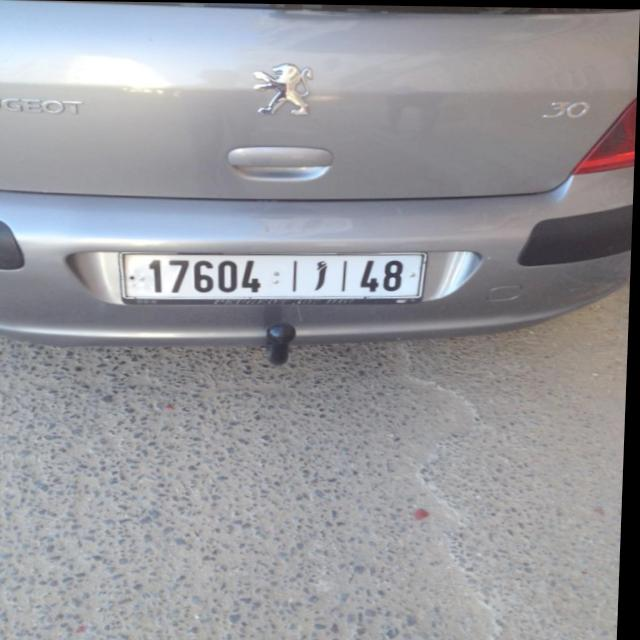License-Plate: (122, 253, 429, 302)
